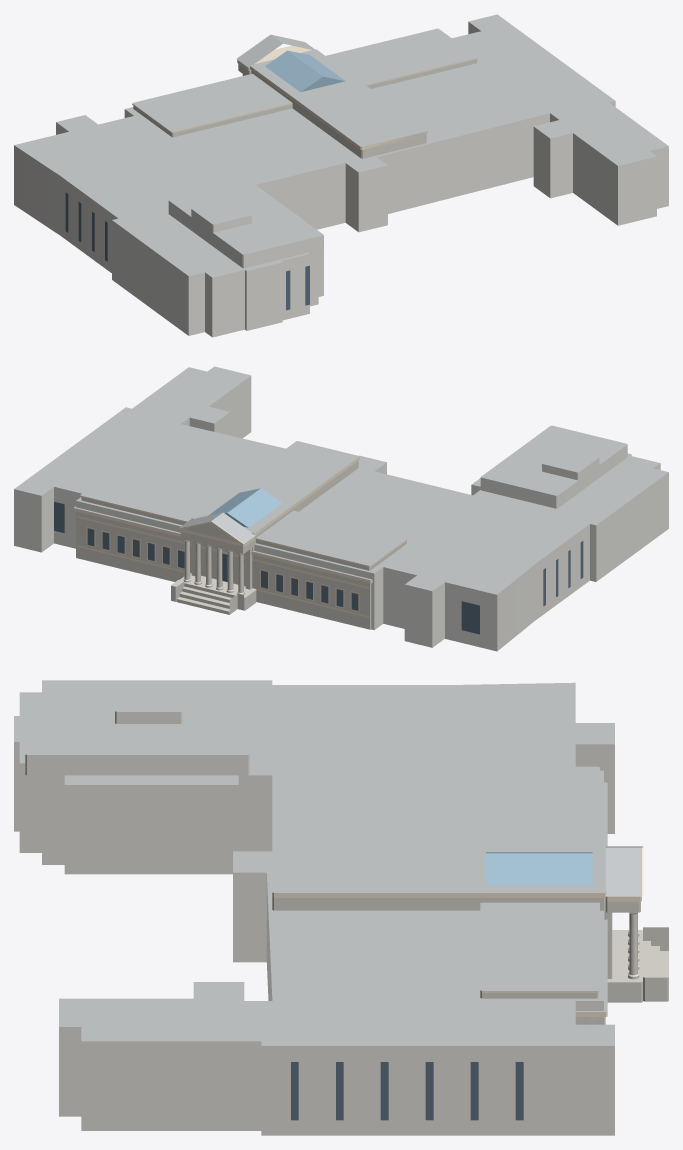
The model's file is msp-minneapolis-institute-of-art.glb.
The picture shows the model from 3 angles, top to bottom: view 1: azimuth 30°, elevation 25°; view 2: azimuth 150°, elevation 25°; view 3: azimuth 270°, elevation 25°; orthographic projection. The views are drawn at different scales.
Parts seen in each view (by area): view 1: msp-minneapolis-institute-of-art; view 2: msp-minneapolis-institute-of-art; view 3: msp-minneapolis-institute-of-art.
Part boxes in pixels (x1=…): msp-minneapolis-institute-of-art: x1=14, y1=14, x2=668, y2=337; msp-minneapolis-institute-of-art: x1=14, y1=366, x2=668, y2=651; msp-minneapolis-institute-of-art: x1=14, y1=680, x2=668, y2=1135.
Size of the model in its own units: 154 by 25.3 by 117.
